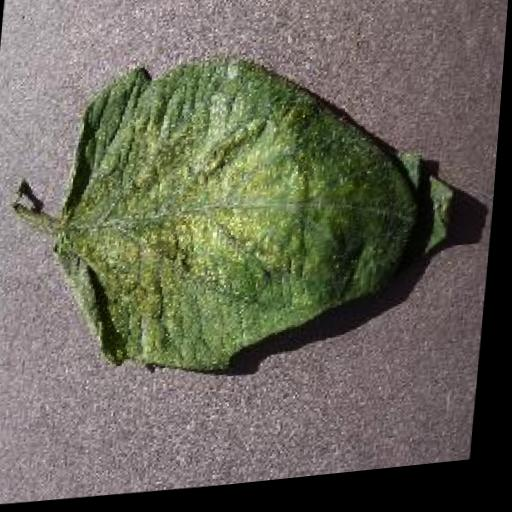Spider Mites: (50, 42, 471, 396)
